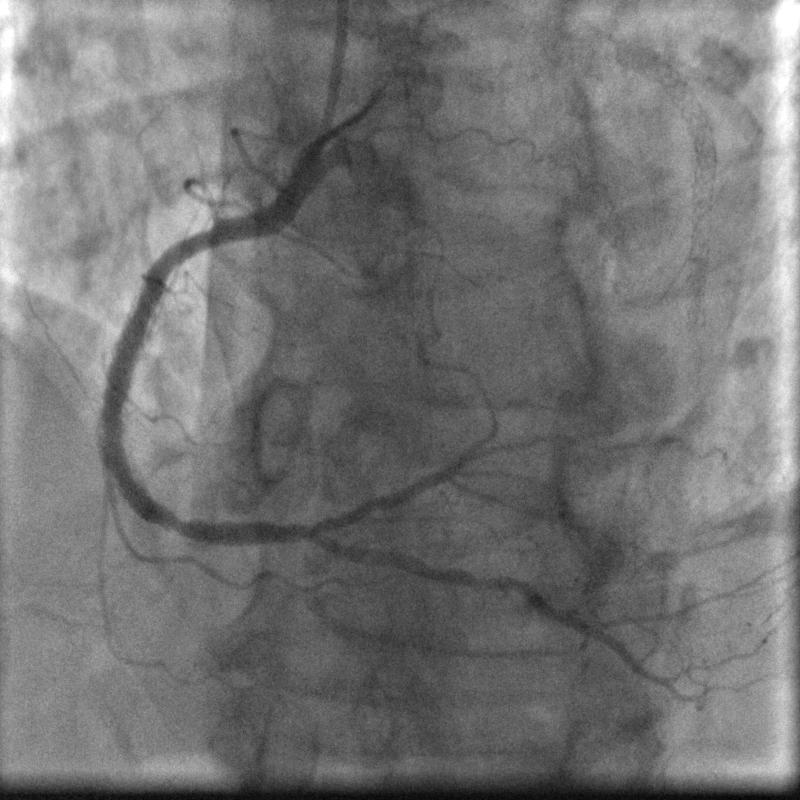Stenosis: (164, 220, 208, 275)
